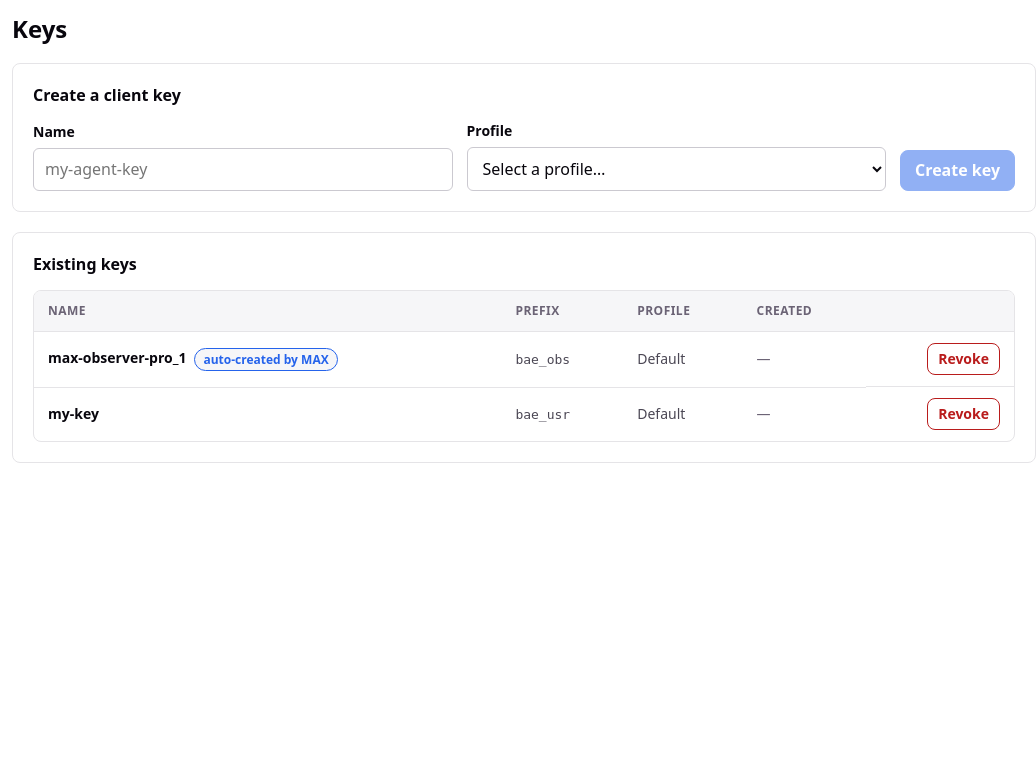
Test: KeysTab › shows the plaintext key exactly once with a copy-now warning
Type "agent-key" into the field with placeholder "my-agent-key" at [243, 170], box x1=33 y1=148 x2=452 y2=191
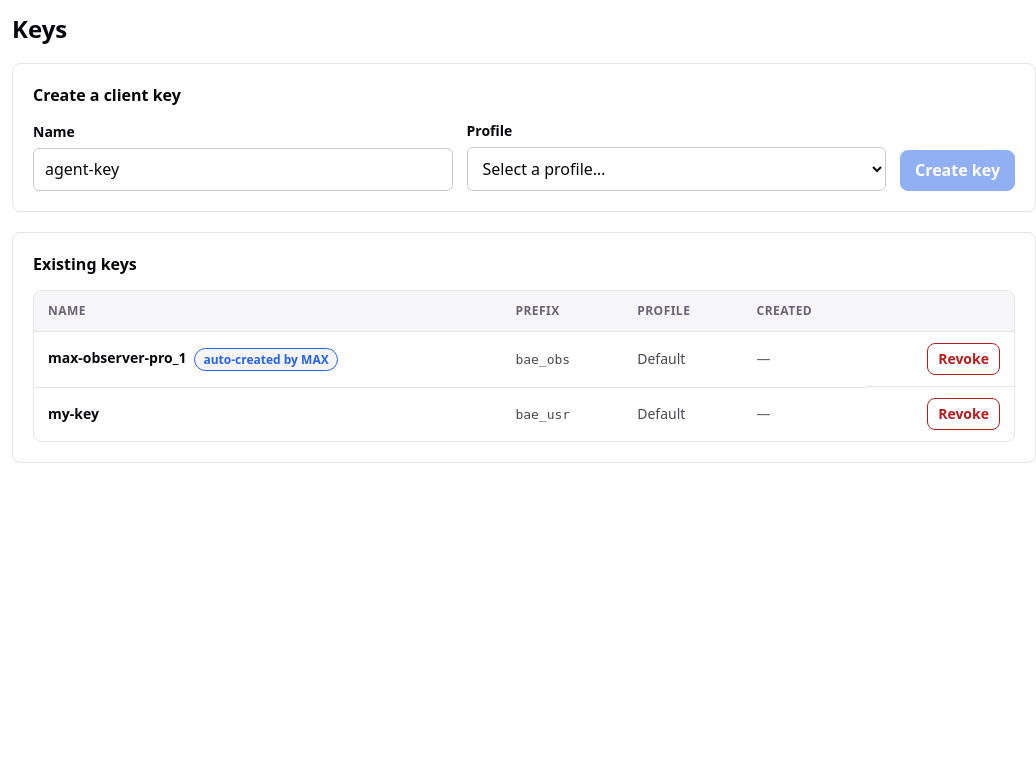
Select "Default" in the dropdown at [676, 169], box x1=466 y1=147 x2=886 y2=191
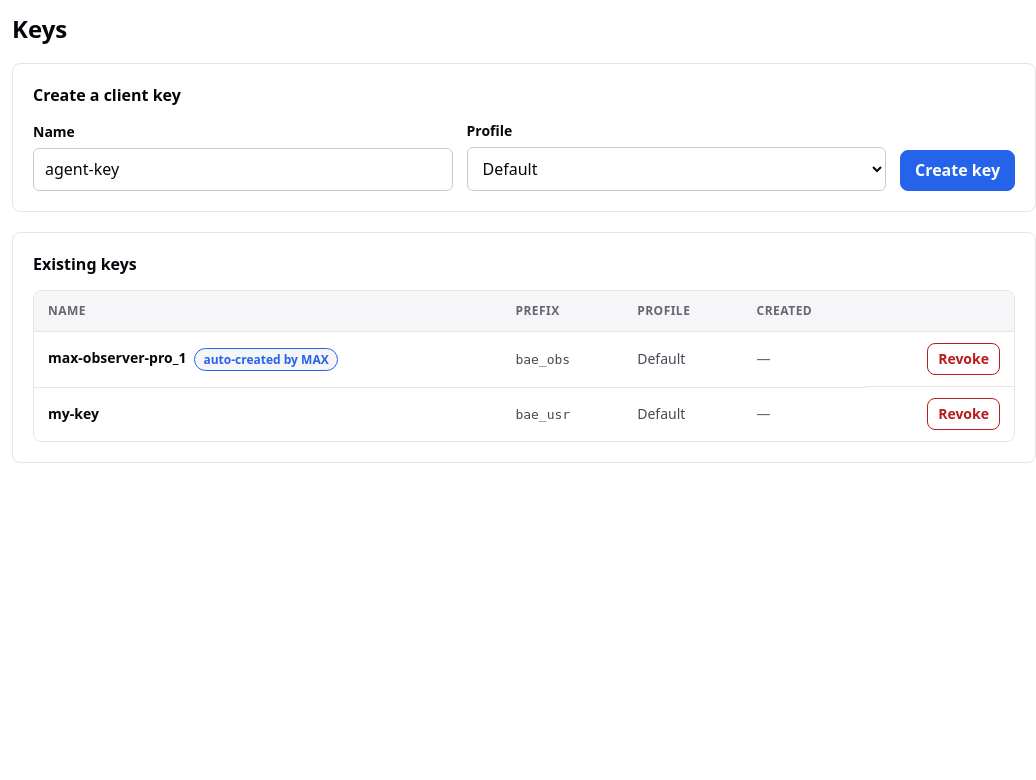
Click the button "Create key" at [958, 171], box x1=900 y1=150 x2=1015 y2=191
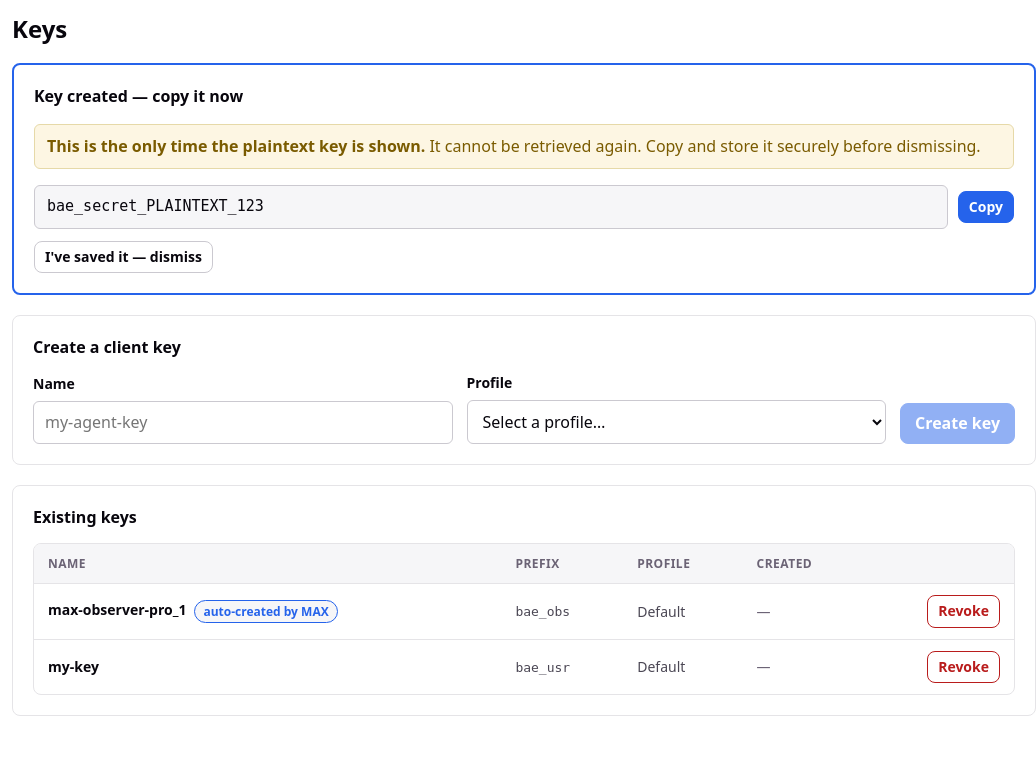
Expected: the text with test id "plaintext-key" reads "bae_secret_PLAINTEXT_123", x1=47 y1=197 x2=264 y2=215
Expected: the text "This is the only time the plaintext key is shown." is shown, x1=47 y1=135 x2=425 y2=157
// Dismissing removes the plaintext — it is never shown again.
Click the button "I've saved it — dismiss" at [123, 257], box x1=34 y1=241 x2=213 y2=273
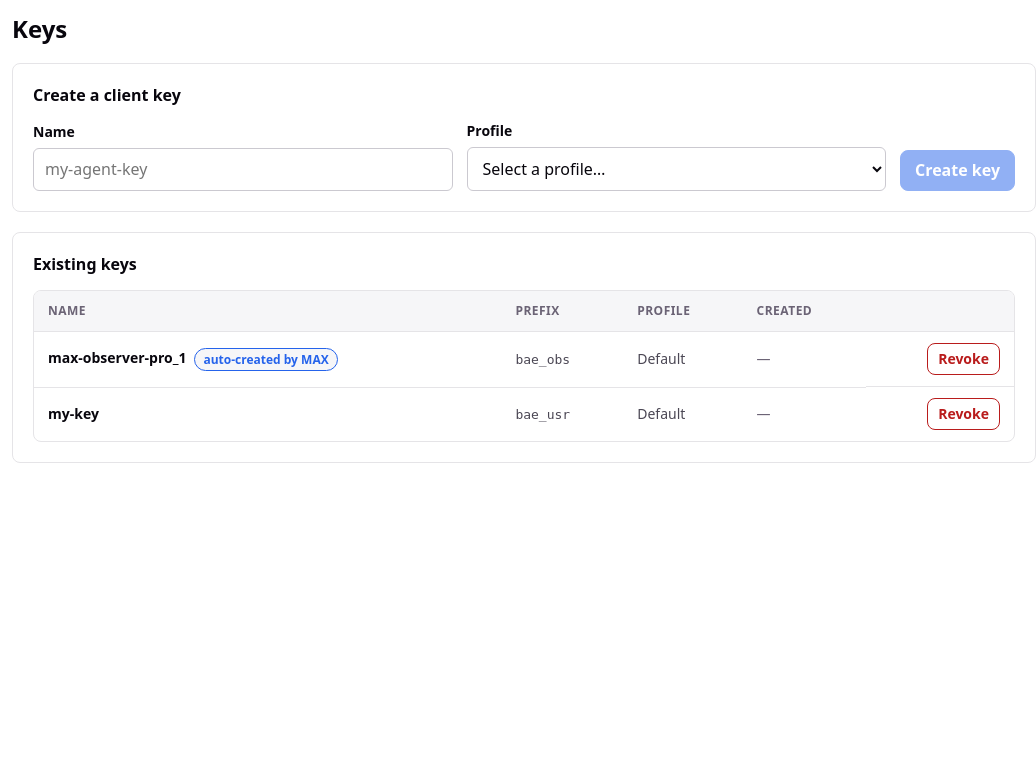
Expected: the text with test id "plaintext-key" is gone
